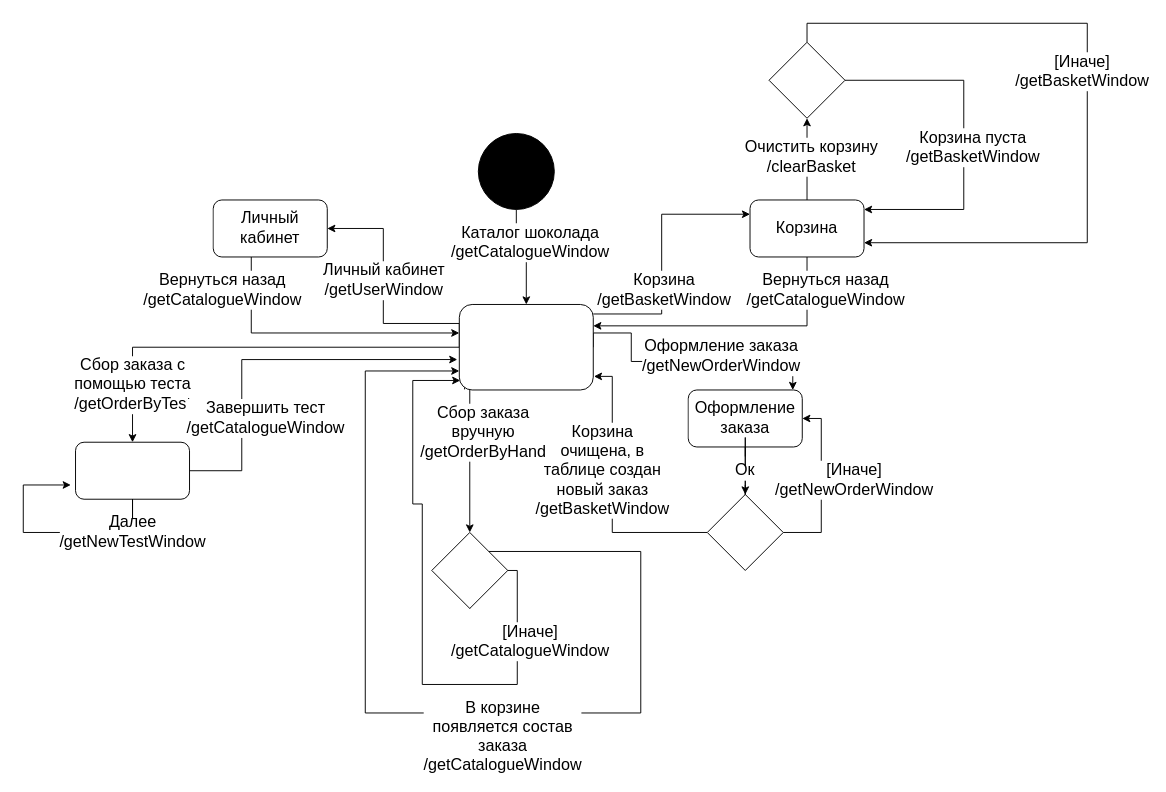
This 1166x792 diagram has some shape labels left out. The centre of each missing label's shape, as x and y in pixels:
"Каталог шоколада" goes at (x=525, y=347).
"Тест" goes at (x=132, y=470).
